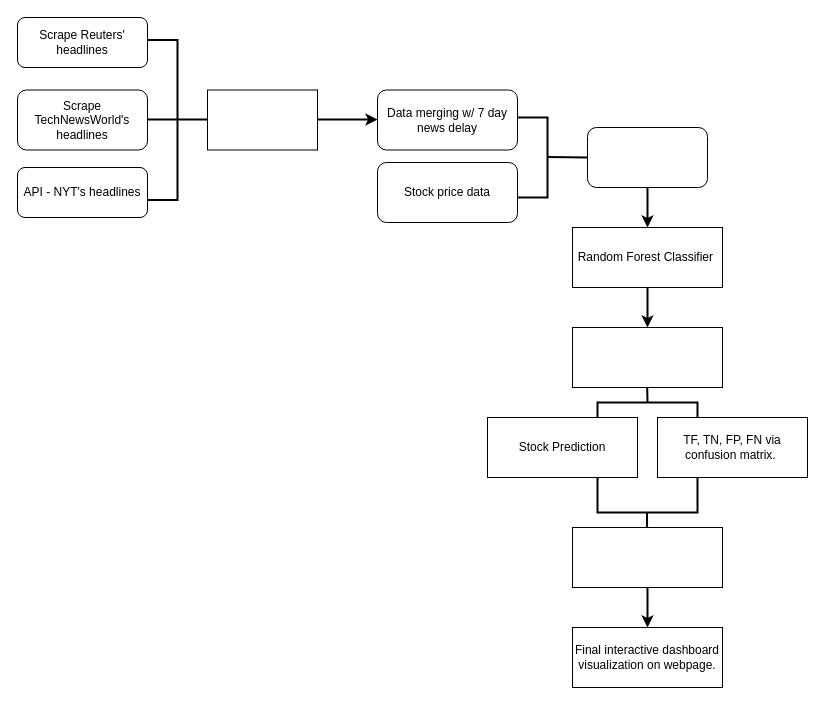
Some shapes in this 825 by 705 pixel diagram are drawn without their labels. The shapes that lost their labels are listed below. From the top down, each one's box as (x1, y1, x2, y2) in pixels, then its label:
(206, 89, 318, 150): Data cleansing
(586, 126, 708, 188): Stock daily performance = news +ve/-ve classification
(572, 326, 722, 388): Training/test data in 70/30 split
(572, 526, 722, 588): Saving daily stock movement prediction to csv
